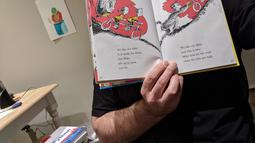text block: (176, 41, 216, 64), (113, 44, 143, 72)
